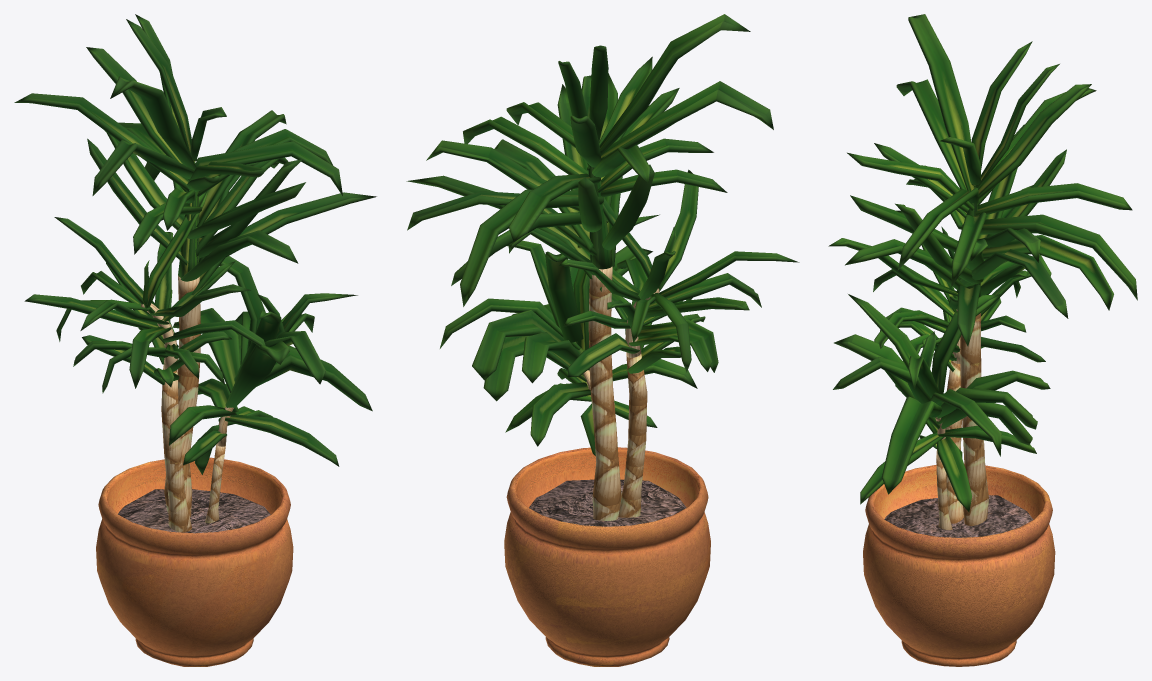
Rendered from pot_plant_dracena.glb.
The picture shows the model from 3 angles, left to right: view 1: azimuth 30°, elevation 25°; view 2: azimuth 150°, elevation 25°; view 3: azimuth 270°, elevation 25°; orthographic projection. The views are drawn at different scales.
Visible parts, largest first — view 1: Object_5, Object_3, Object_4, Object_2, Object_6; view 2: Object_5, Object_3, Object_4, Object_2, Object_6; view 3: Object_5, Object_3, Object_4, Object_2.
Part boxes in pixels (x1,y1,x2,y2): Object_5: [14, 14, 376, 474]; Object_3: [96, 457, 293, 666]; Object_4: [141, 275, 233, 532]; Object_2: [118, 489, 270, 533]; Object_6: [178, 180, 199, 277]; Object_5: [406, 14, 799, 455]; Object_3: [504, 447, 710, 666]; Object_4: [583, 266, 659, 520]; Object_2: [529, 479, 686, 526]; Object_6: [588, 166, 612, 269]; Object_5: [828, 14, 1137, 512]; Object_3: [863, 464, 1055, 666]; Object_4: [935, 309, 988, 530]; Object_2: [884, 495, 1033, 537].
Bounding box in the file's own units: 6.43 × 10.94 × 5.2.
Materials: 4 (4 with a texture image).
